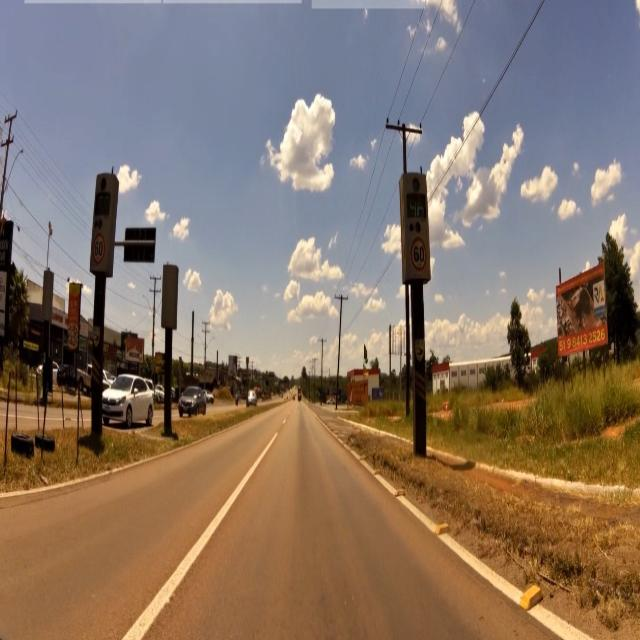R-19: (411, 237, 426, 269), (92, 232, 104, 268)
